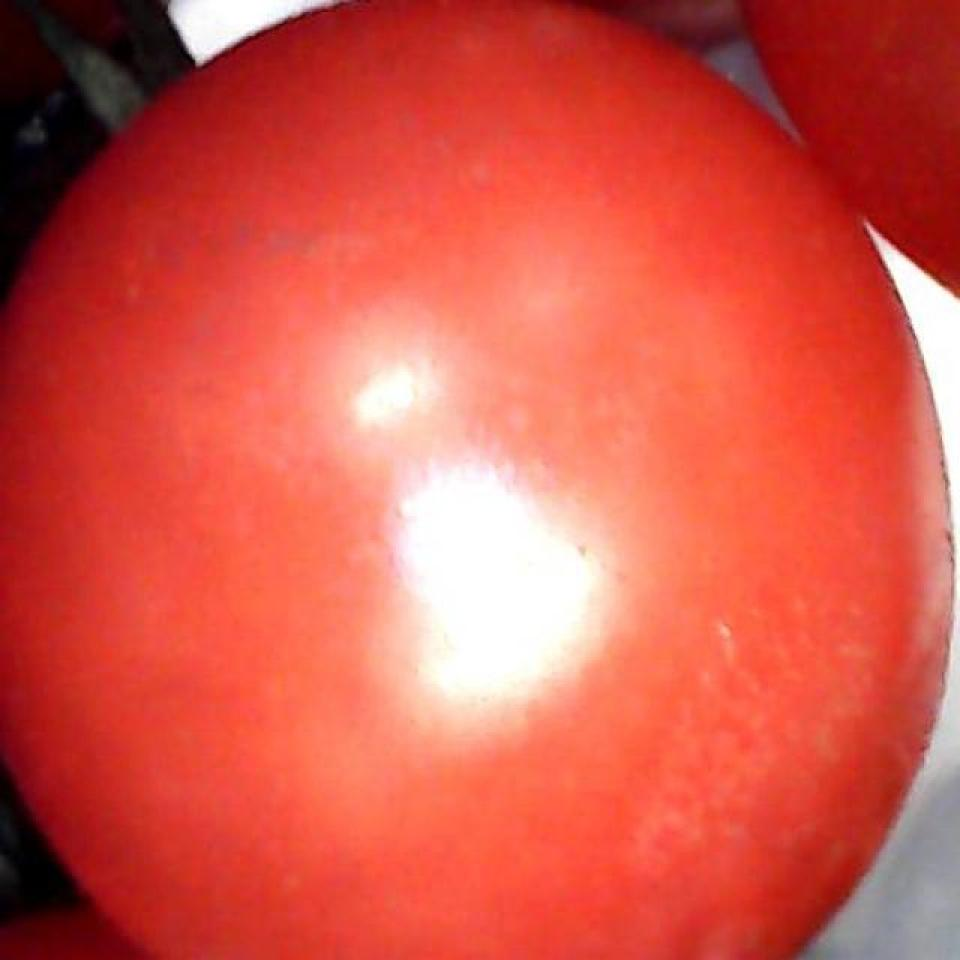Healthy: (17, 6, 950, 960)
